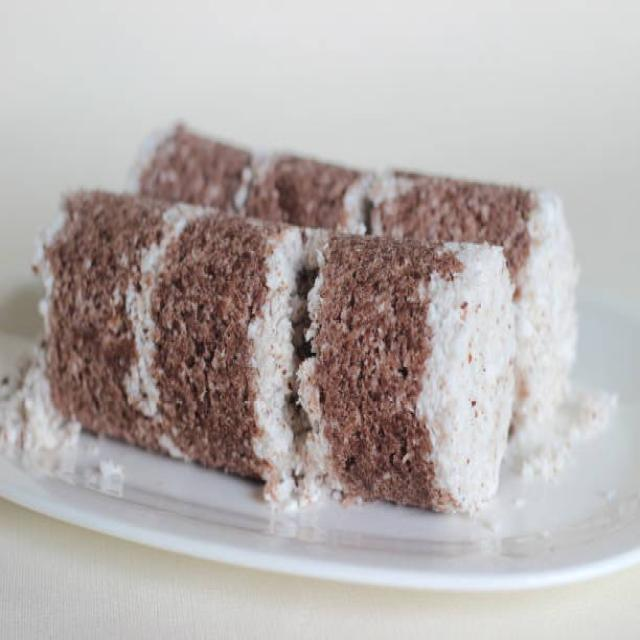PUTTU: (31, 117, 582, 519)
